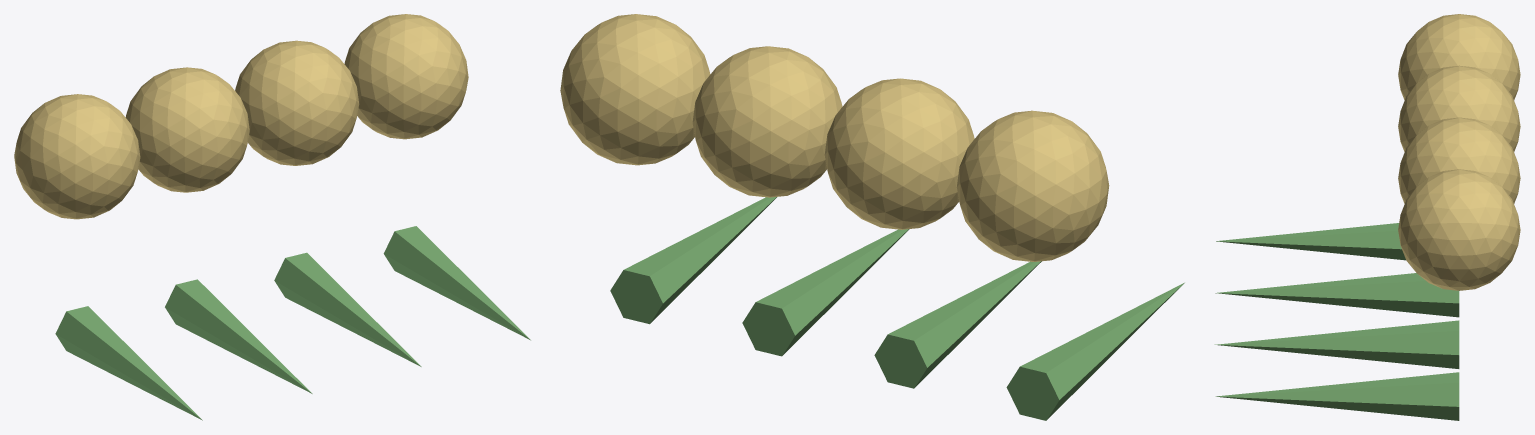
File: flower_var_1.glb
The picture shows the model from 3 angles, left to right: view 1: azimuth 30°, elevation 25°; view 2: azimuth 150°, elevation 25°; view 3: azimuth 270°, elevation 25°; orthographic projection. The views are drawn at different scales.
Visible parts, largest first — view 1: world; view 2: world; view 3: world.
Boxes of the visible parts, x1=… form: world: x1=14, y1=14, x2=530, y2=420; world: x1=560, y1=14, x2=1184, y2=420; world: x1=1214, y1=14, x2=1520, y2=420.
Size of the model in its own units: 0.4 by 0.2173 by 0.25.
